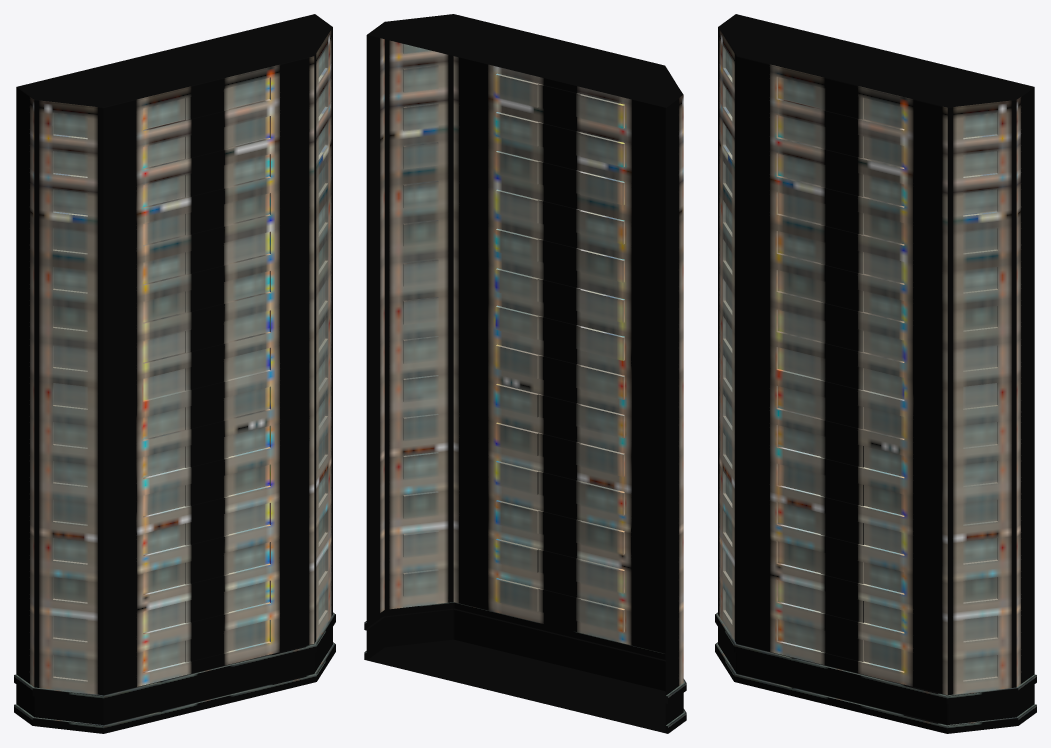
File: Pagoda_Body_Tile_2500x5000_C.FBX
3 views of the same model, side by side, from view 1: azimuth 30°, elevation 25°; view 2: azimuth 150°, elevation 25°; view 3: azimuth 330°, elevation 25° (orthographic).
Visible parts, largest first — view 1: Geometry_Pagoda_Body_Tile_2500x5000_C_LOD00; view 2: Geometry_Pagoda_Body_Tile_2500x5000_C_LOD00; view 3: Geometry_Pagoda_Body_Tile_2500x5000_C_LOD00.
Part boxes in pixels (x1,y1,x2,y2): Geometry_Pagoda_Body_Tile_2500x5000_C_LOD00: (14, 14, 335, 733); Geometry_Pagoda_Body_Tile_2500x5000_C_LOD00: (364, 14, 686, 733); Geometry_Pagoda_Body_Tile_2500x5000_C_LOD00: (715, 14, 1036, 733).
Size of what is drawn, in the model's own units: 2540 by 5000 by 645.
